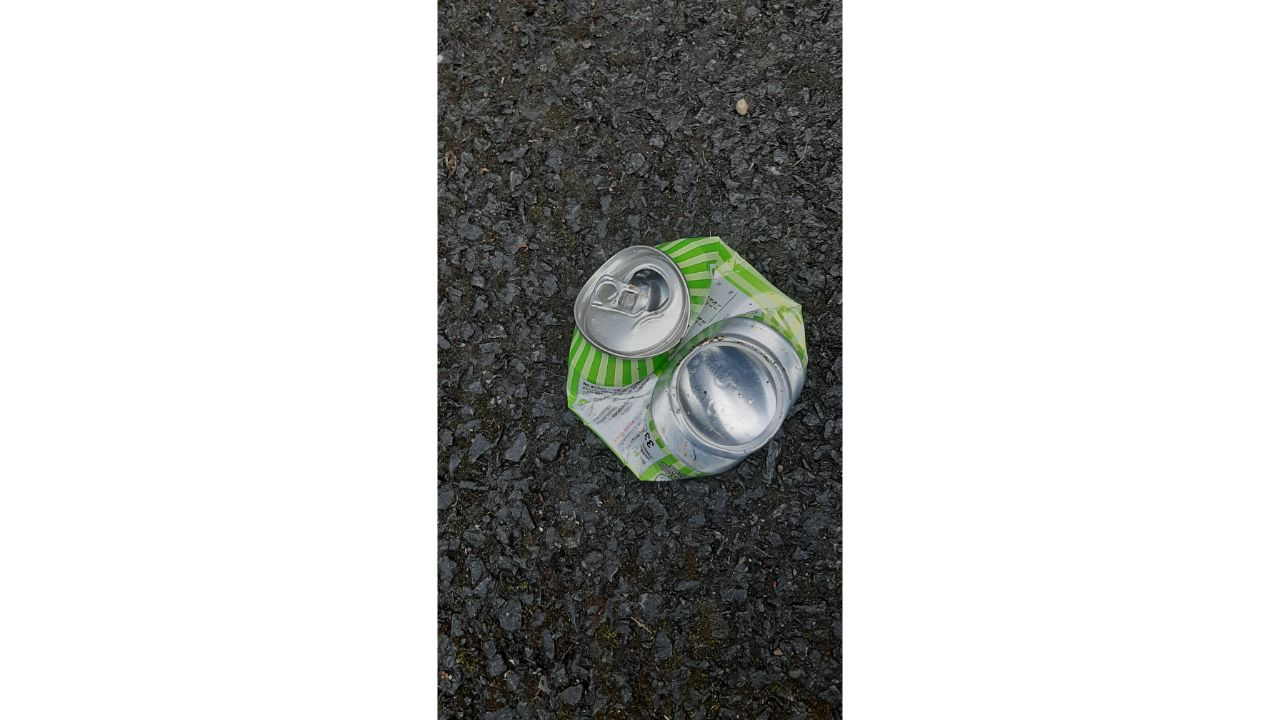Can: (564, 236, 807, 483)
